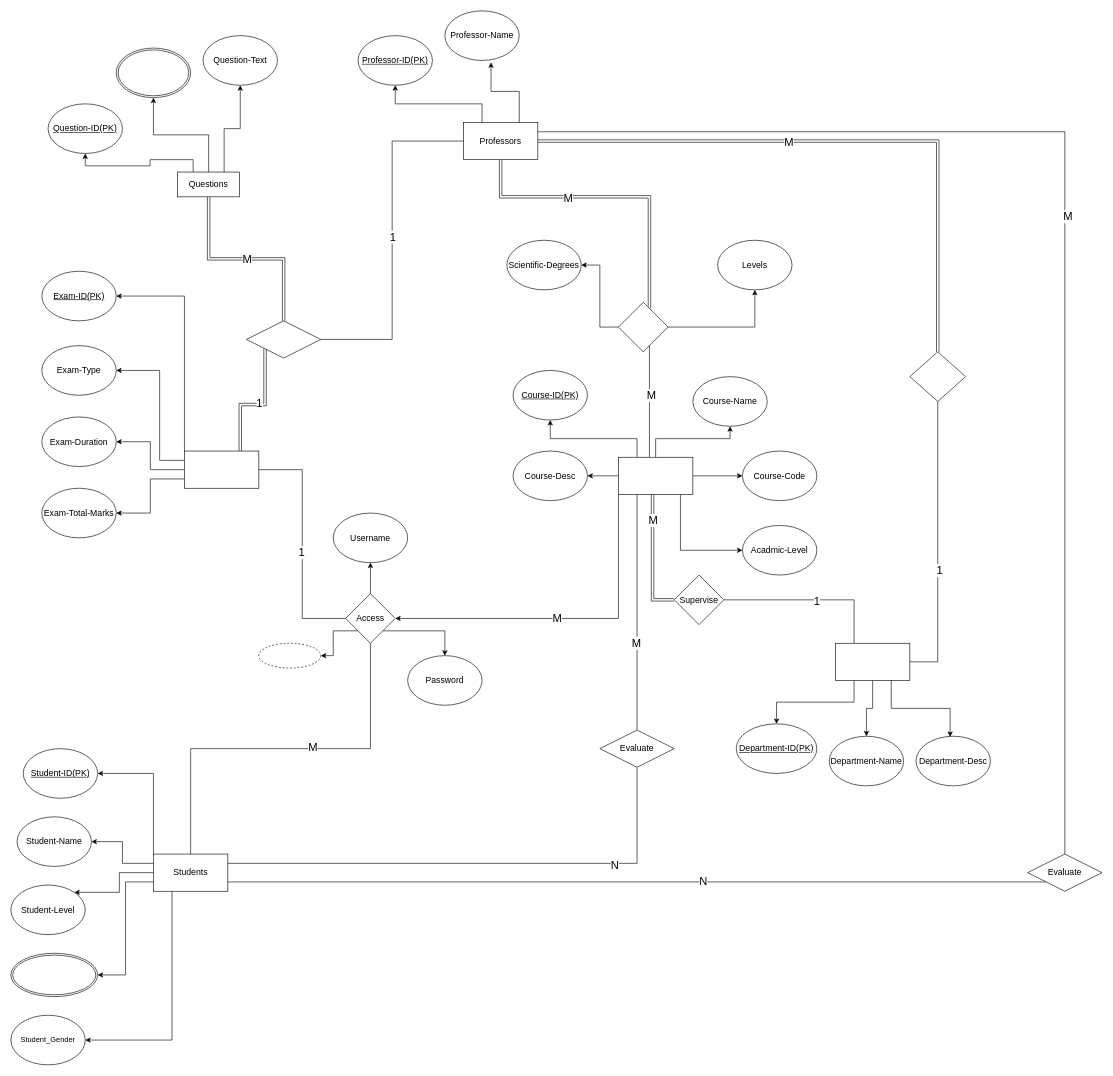
Some shapes in this 1113 by 1076 pixel diagram are drawn without their labels. The box of each missing label's shape, as (x1, y1, x2, y2) in pixels:
Academic-Program: (10, 953, 98, 997)
Calc-Result: (258, 643, 321, 668)
Courses: (618, 457, 693, 494)
Departments: (835, 643, 910, 680)
Exams: (184, 450, 259, 488)
Has: (246, 320, 321, 358)
Question-Level: (116, 47, 191, 98)
Teach: (618, 302, 668, 352)
Work-For: (909, 351, 966, 401)
